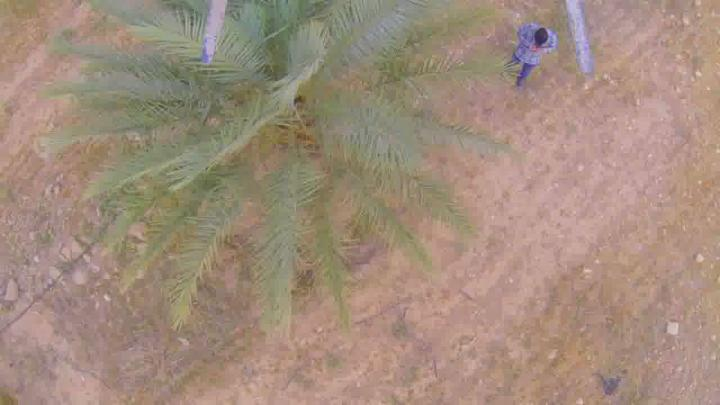Date-Palm-Crown: (153, 1, 393, 237)
